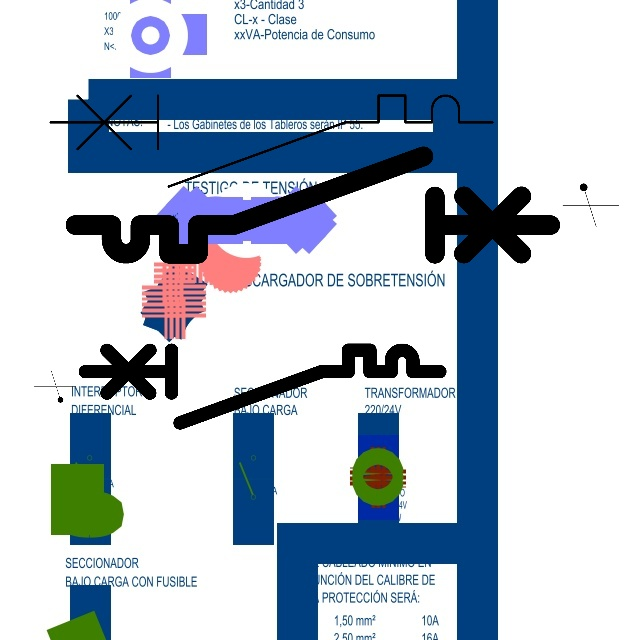interruptor_termomagnetico: (63, 144, 563, 266), (39, 84, 504, 198), (76, 341, 449, 432)
